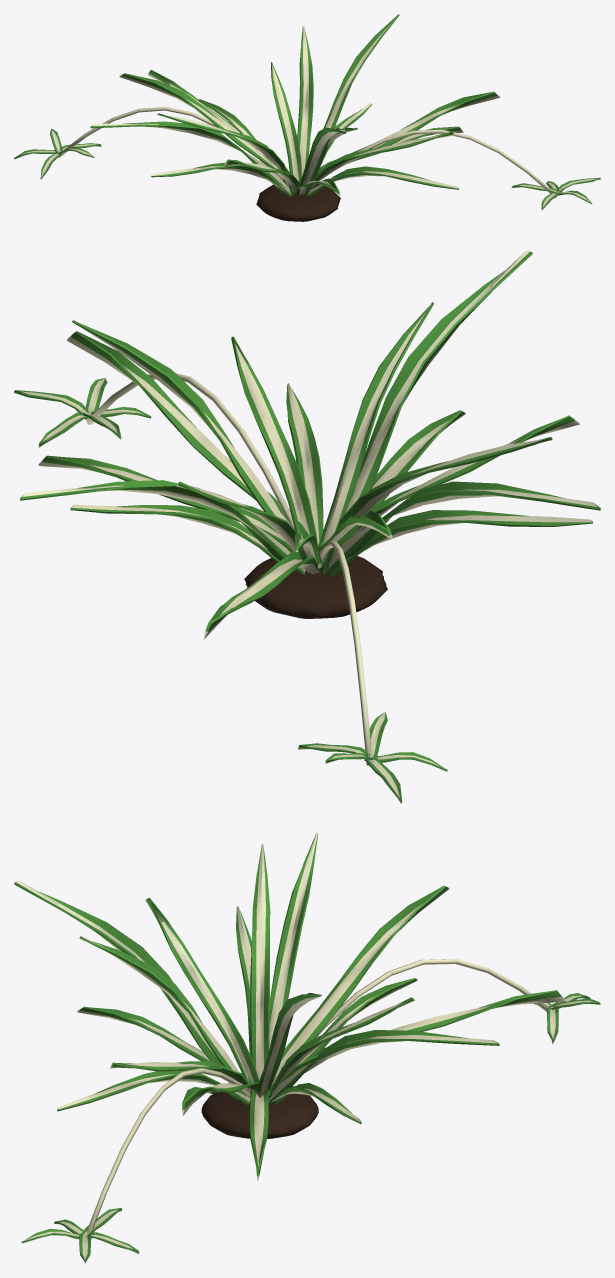
The model's file is canopy_spider_tuft.glb.
3 renders of one model, top to bottom at view 1: azimuth 30°, elevation 25°; view 2: azimuth 150°, elevation 25°; view 3: azimuth 270°, elevation 25°, orthographic. The views are drawn at different scales.
Visible parts, largest first — view 1: canopy_spider_tuft; view 2: canopy_spider_tuft; view 3: canopy_spider_tuft.
Part boxes in pixels (<box>): canopy_spider_tuft: <box>14,14,600,221</box>; canopy_spider_tuft: <box>14,250,600,803</box>; canopy_spider_tuft: <box>14,832,600,1263</box>.
Bounding box in the file's own units: 14.73 × 5.07 × 12.4.
